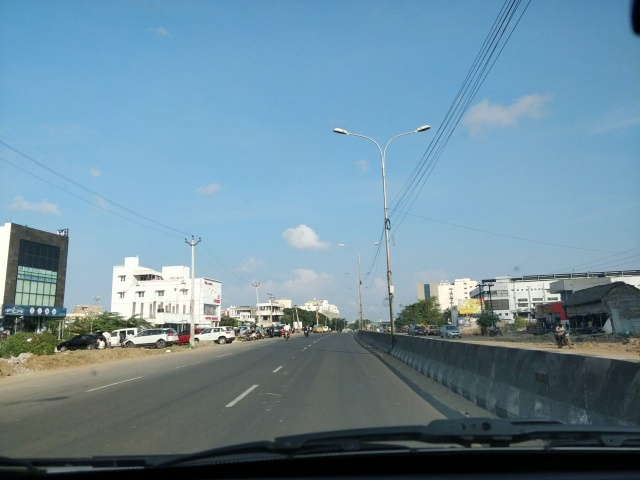car: (439, 325, 461, 340), (409, 324, 435, 335)
motorbike: (549, 321, 575, 348), (280, 320, 292, 342), (299, 323, 314, 337)
